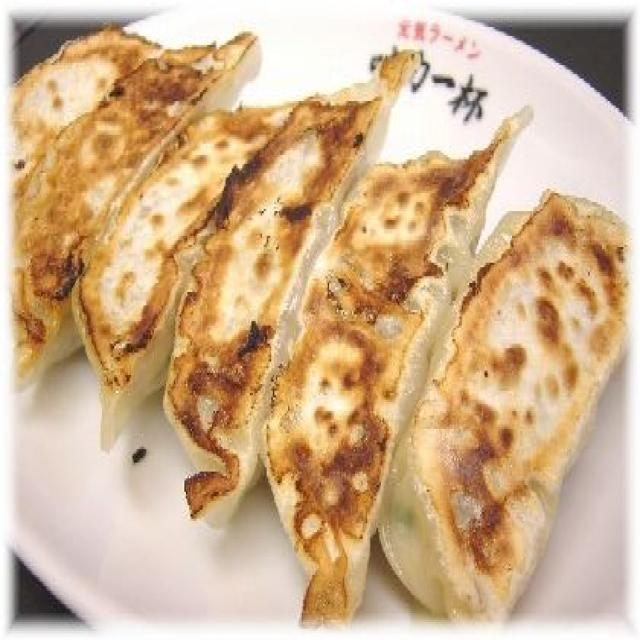带馅早点: (11, 20, 624, 618)
